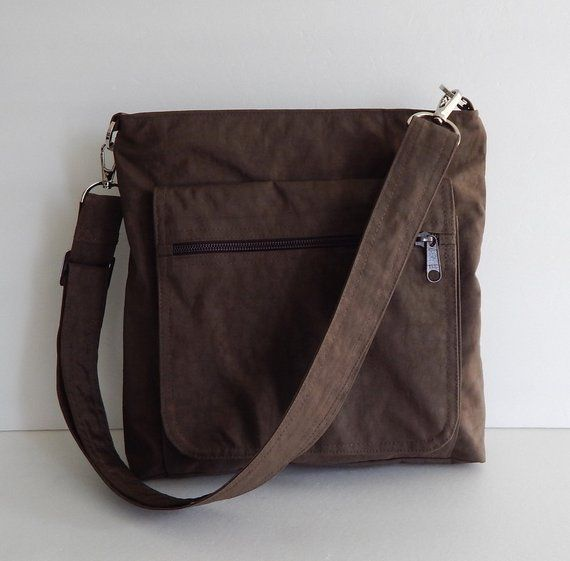nylon: (56, 108, 488, 511)
